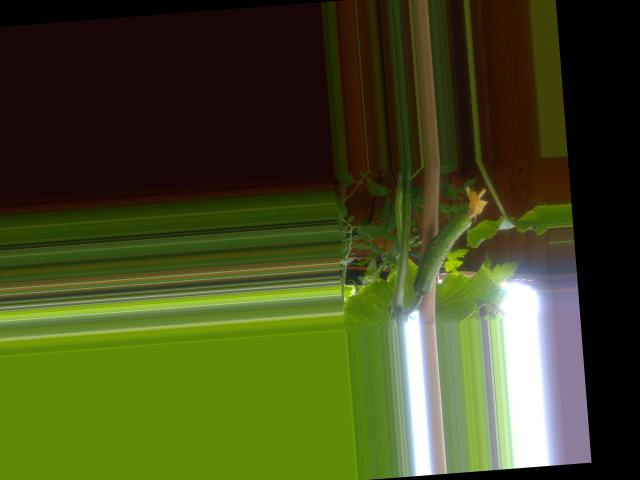cucumber: (406, 184, 495, 295)
